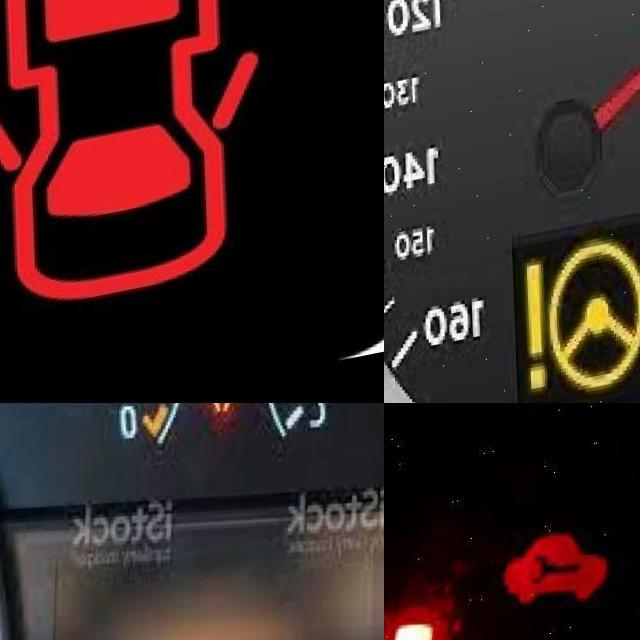Electronic Power Steering Warning: (517, 243, 640, 403)
Seat Belt: (199, 403, 235, 428)
